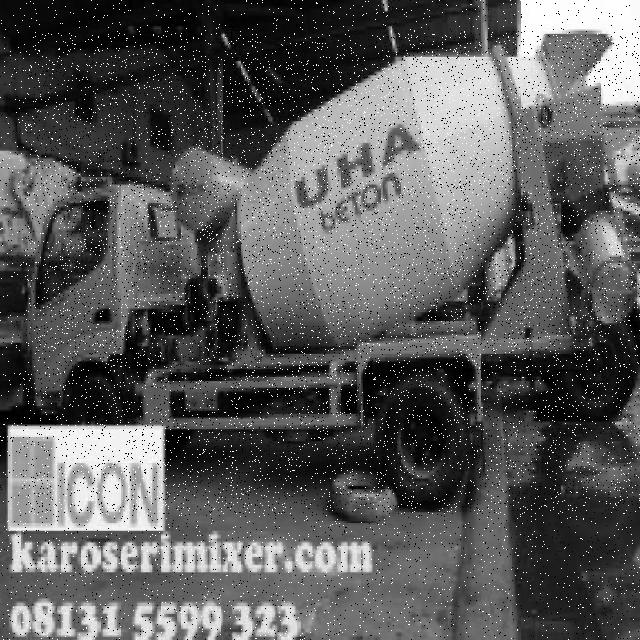Concrete Mixer: (25, 33, 640, 514)
